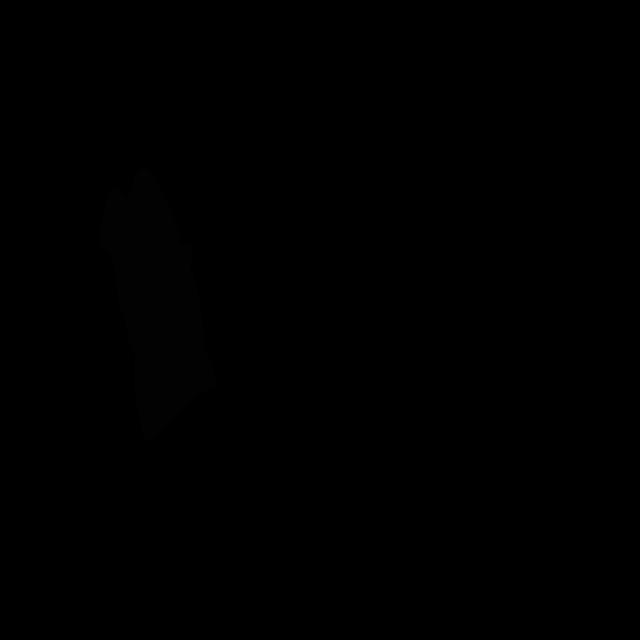cardboard: (98, 167, 216, 440)
